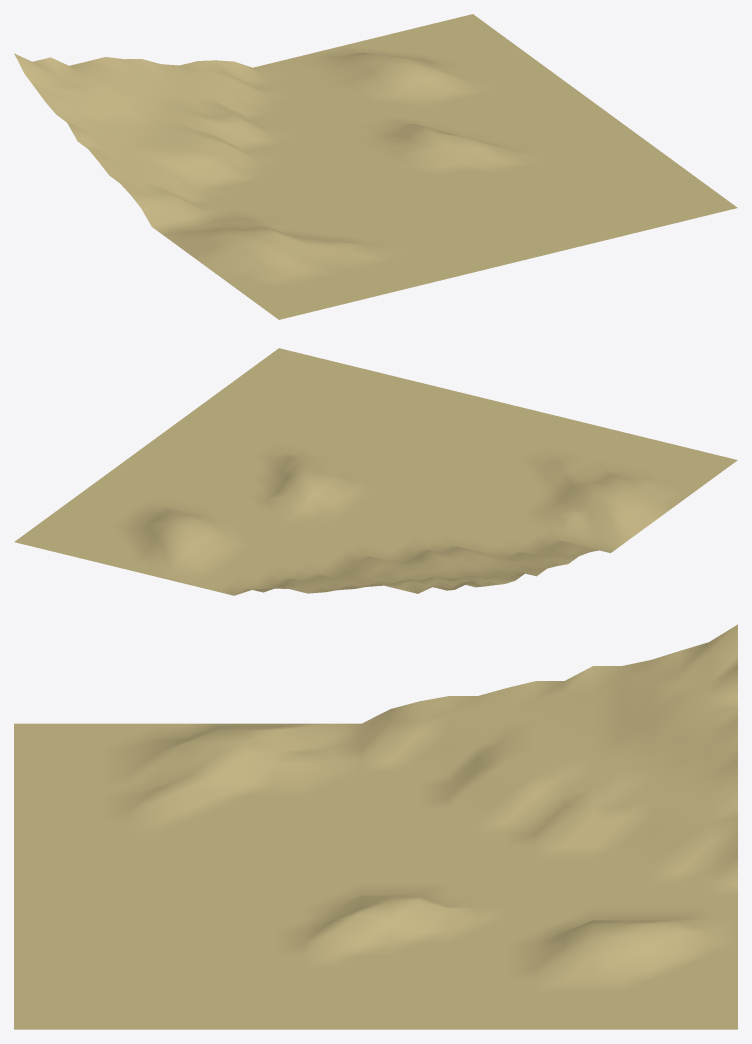
Rendered from map.obj.
3 views of the same model, one above another, from view 1: azimuth 30°, elevation 25°; view 2: azimuth 150°, elevation 25°; view 3: azimuth 270°, elevation 25° (orthographic). The views are drawn at different scales.
Visible parts, largest first — view 1: map; view 2: map; view 3: map.
Part boxes in pixels (x1,y1,x2,y2): map: (14, 14, 737, 319); map: (14, 348, 737, 595); map: (14, 624, 737, 1029).
Size of the model in its own units: 50 by 7.57 by 50.
